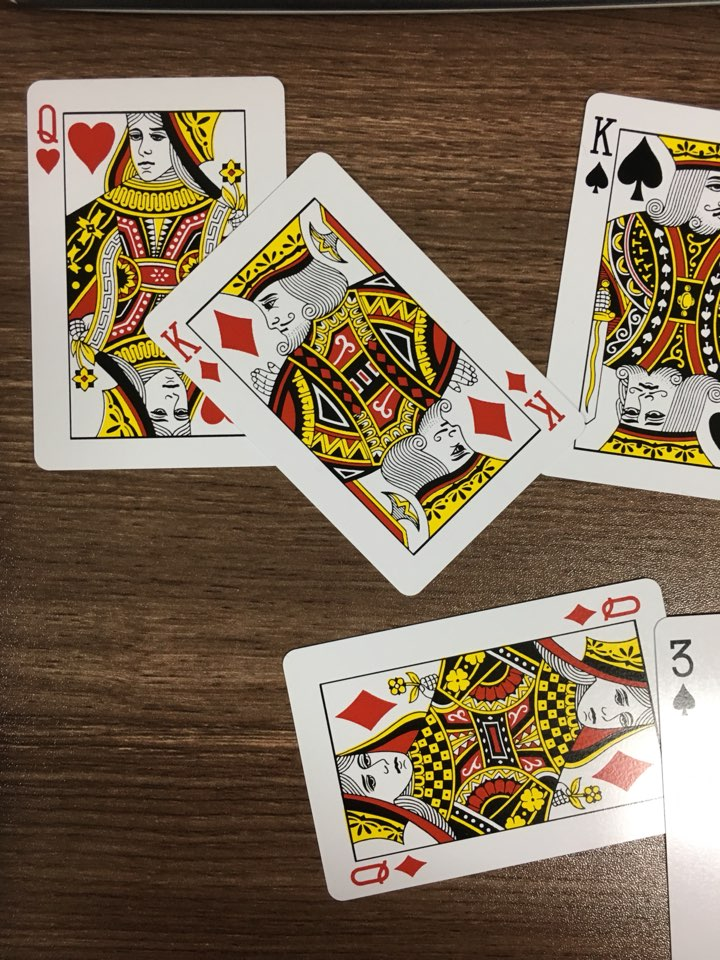king: (132, 137, 592, 608), (524, 84, 720, 516)
queen: (266, 567, 709, 913), (17, 66, 333, 482)
